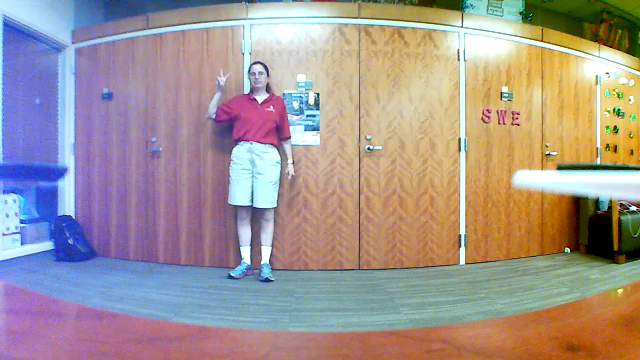peace: (213, 64, 234, 91)
